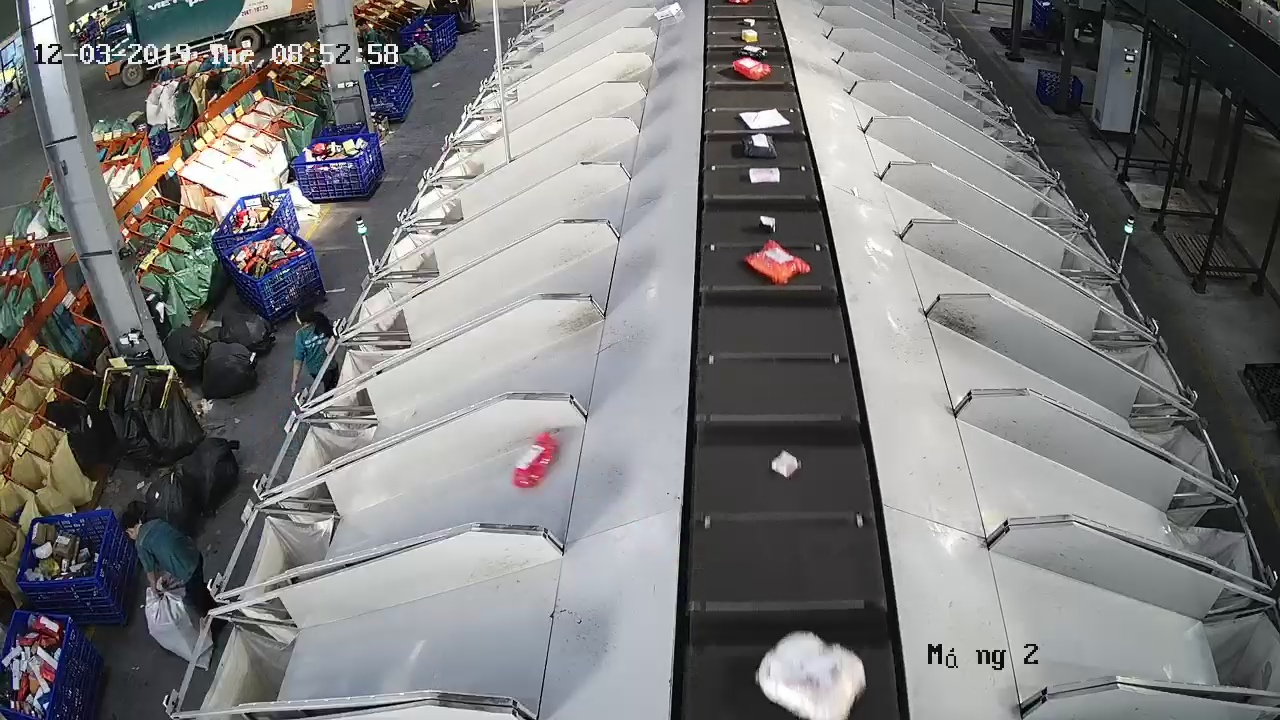parcel: (742, 238, 812, 287), (511, 430, 561, 489), (737, 106, 791, 130), (739, 132, 780, 159), (770, 448, 803, 481), (748, 166, 782, 185), (758, 213, 777, 234)
